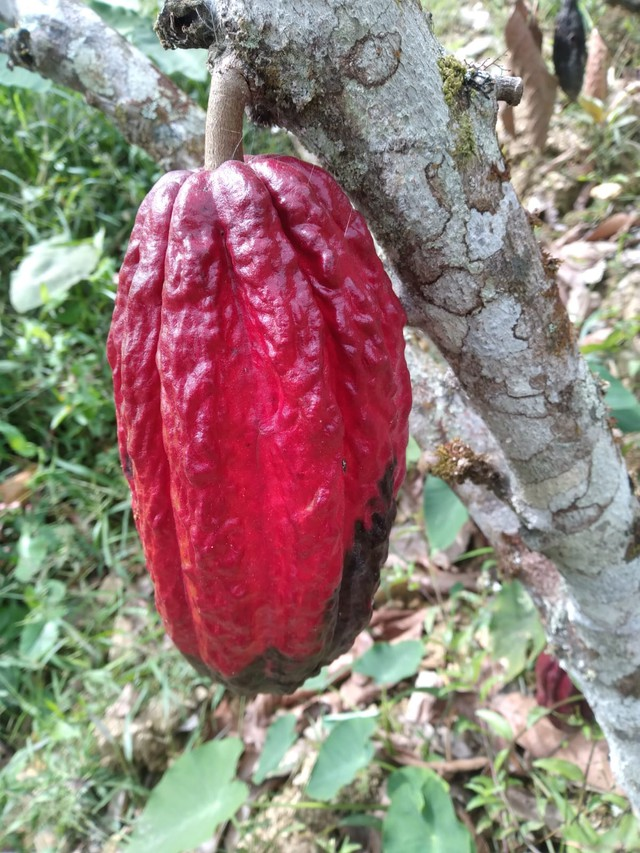phytophthora palmivora: (100, 154, 419, 704)
